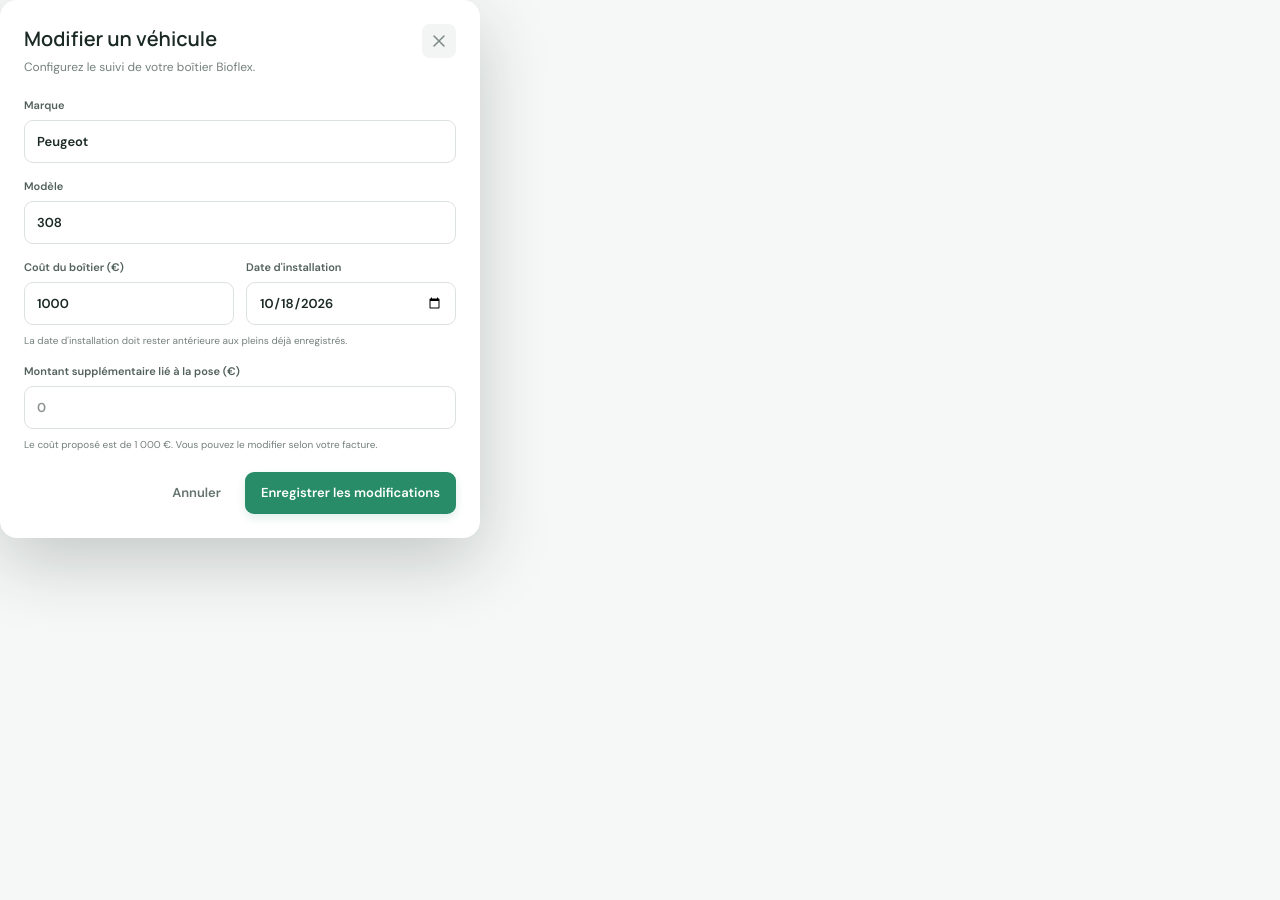
Test: vehicle form › prevents changing installation to a date after an existing fill
The image size is (1280, 900).
Step 1. Type "2026-10-20" into the date field labelled "Date d'installation" → (351,303), box [246,282,456,325]
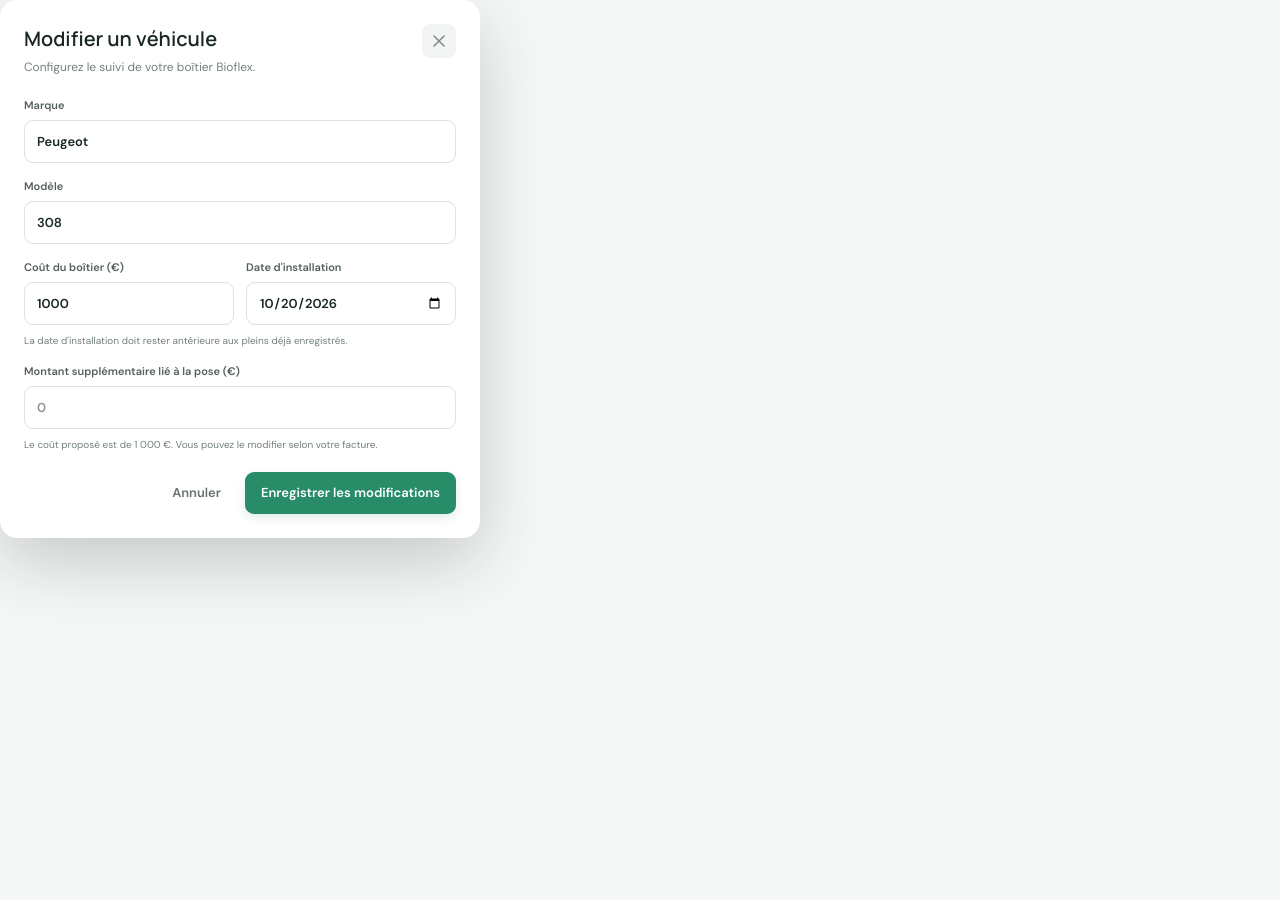
Step 2. Click the button "Enregistrer les modifications" → (350,493), box [245,472,456,514]
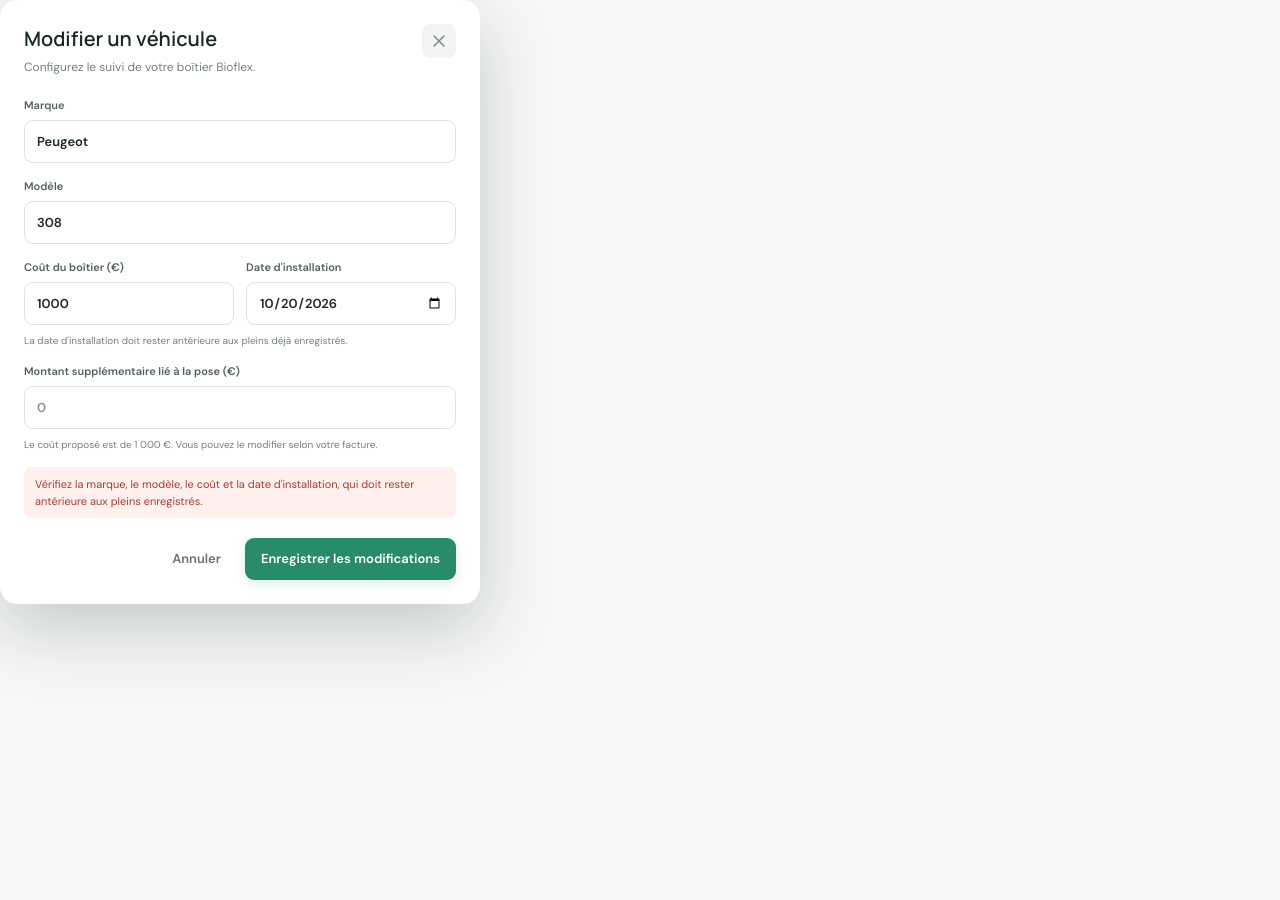
Check: the message shows "antérieure aux pleins enregistrés", box [35,477,414,508]
